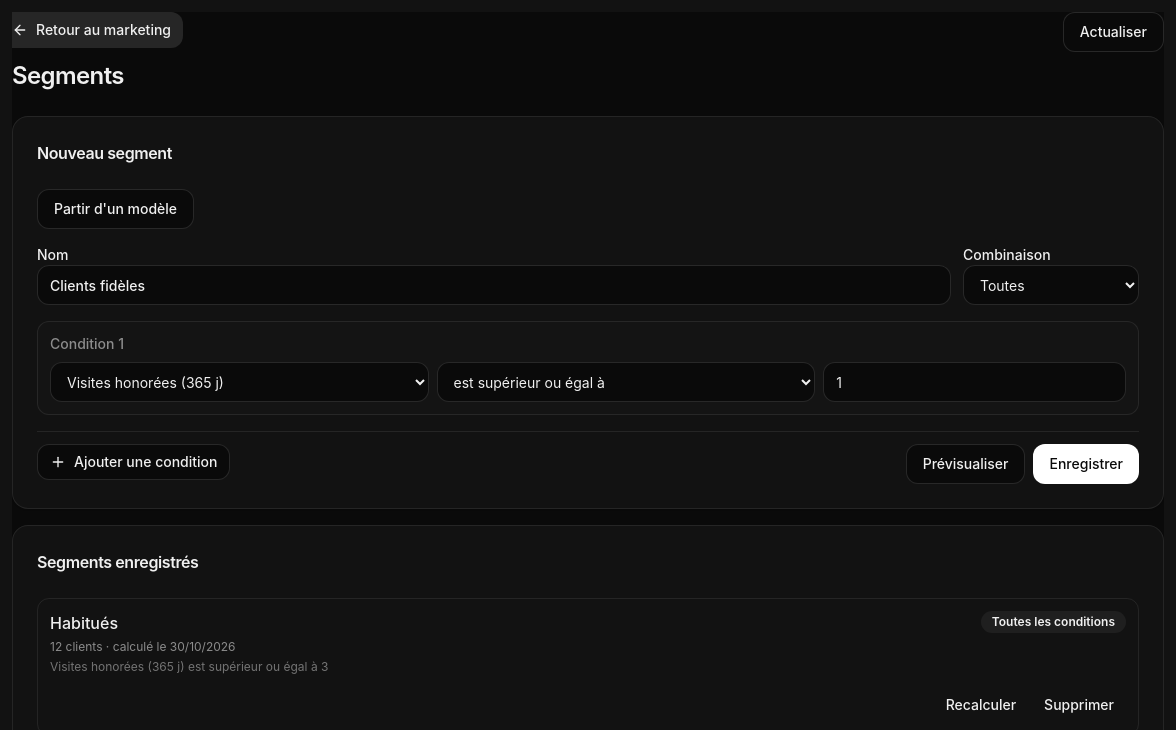
MarketingSegmentsPage › charge un modèle système sans contourner la validation API
Expected: the text "Habitués" is shown, [50,613,118,633]
Press the mouse on the button "Partir d'un modèle": (116, 209) [37,189,194,229]
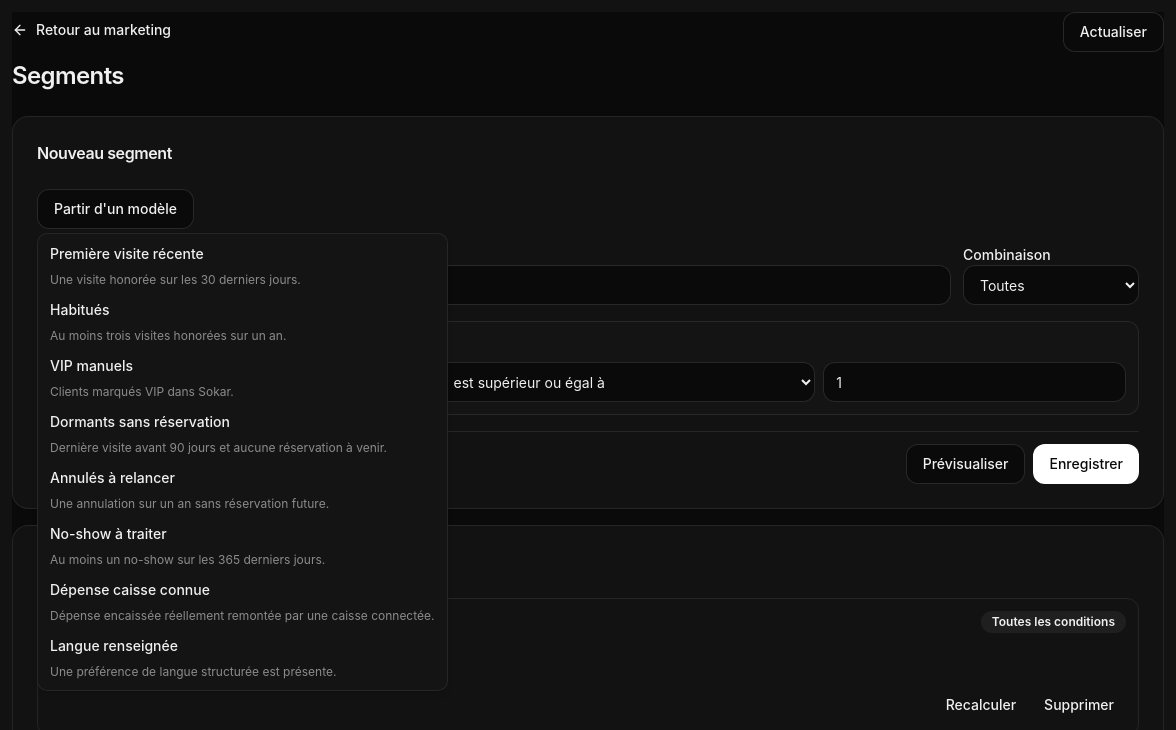
Click the menu item "VIP manuels Clients marqués VIP dans Sokar.": (91, 366) [50,357,234,399]
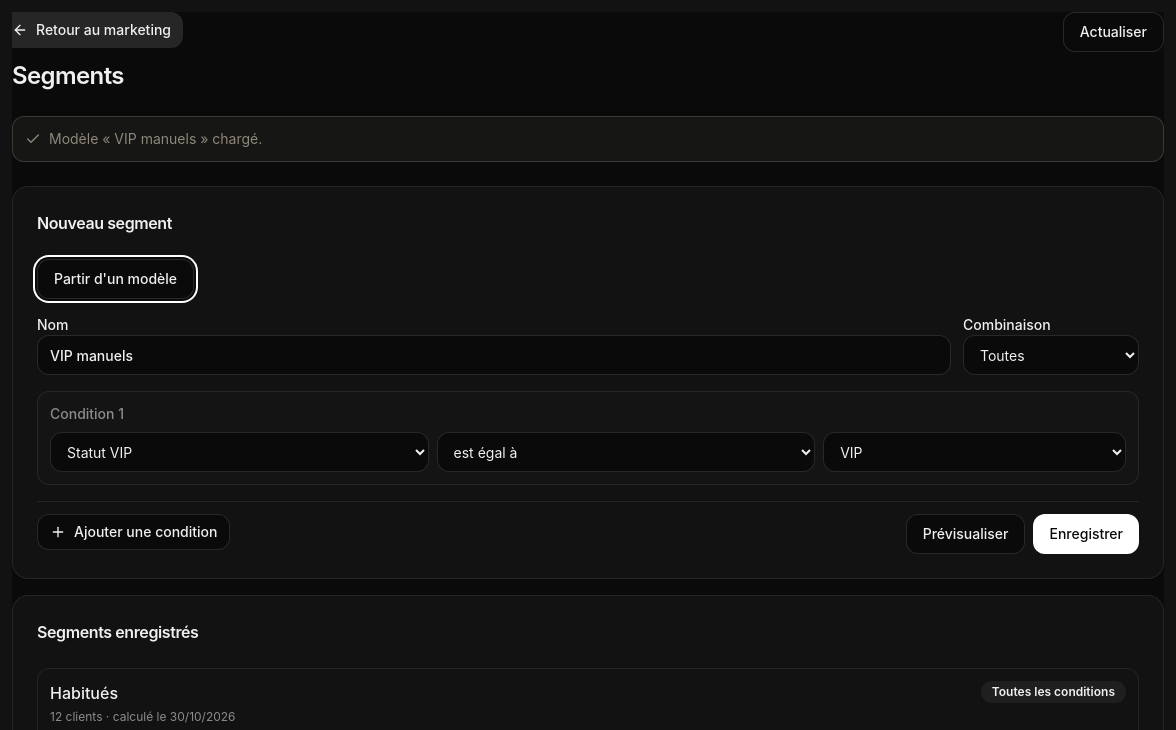
Result: the field showing "VIP manuels" is shown at [37,335,951,375]
Result: the dropdown named "Champ condition 1" shows "Statut VIP" at [50,432,429,472]
Result: the text "Modèle « VIP manuels » chargé." is shown at [12,116,1164,162]
